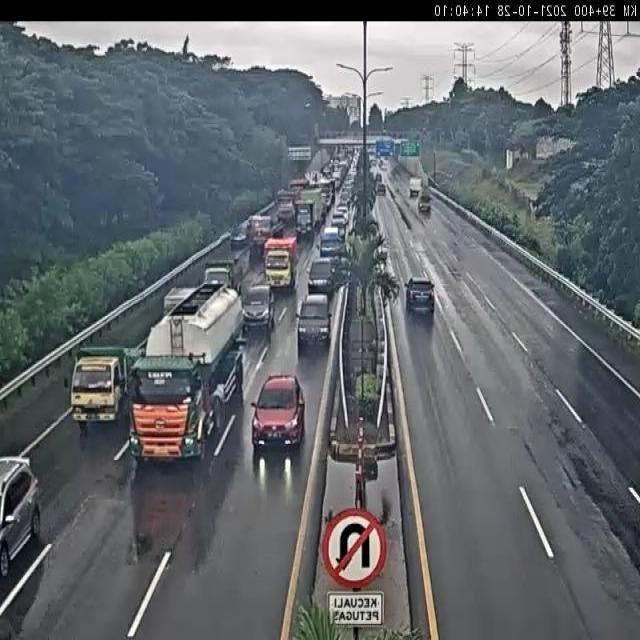Car: (0, 437, 49, 600), (249, 372, 306, 452), (296, 292, 331, 350), (240, 283, 277, 333), (405, 276, 435, 316), (307, 256, 335, 298), (330, 151, 352, 185), (276, 190, 298, 223), (330, 209, 348, 236), (318, 182, 334, 212), (288, 178, 308, 200), (369, 163, 380, 187), (342, 146, 356, 163), (321, 164, 333, 182), (378, 157, 387, 170)
Truck: (138, 274, 246, 478), (72, 344, 141, 430), (263, 236, 297, 291), (293, 198, 316, 240)
